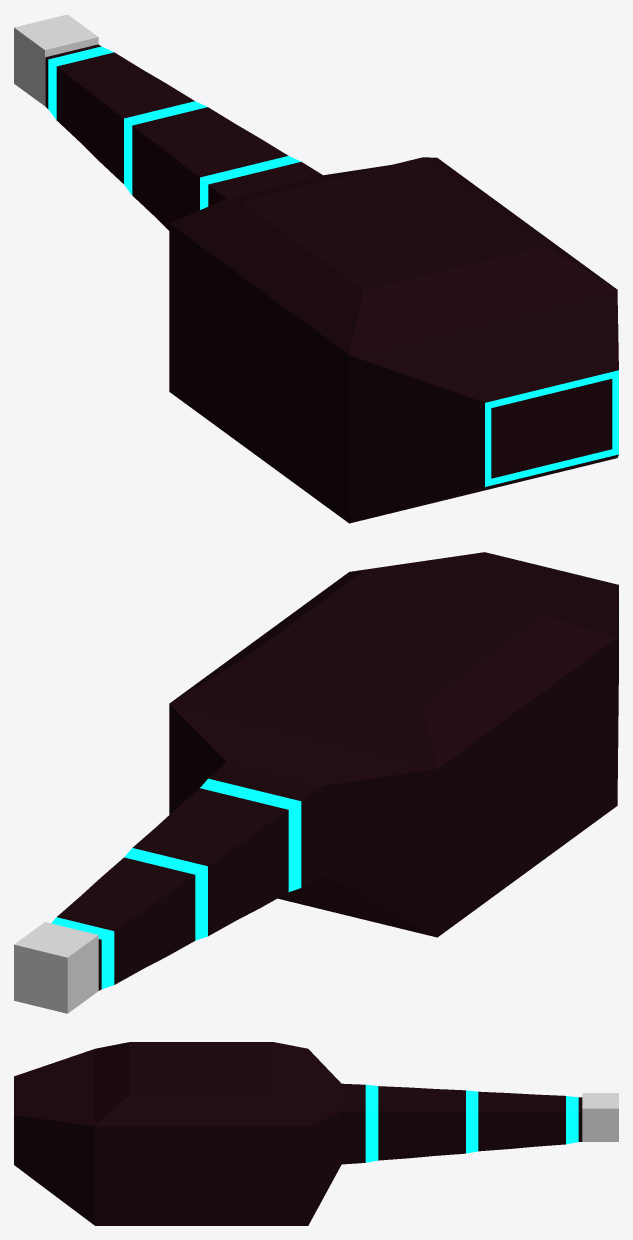
The model's file is Prototype_Gun#2.fbx.
3 renders of one model, top to bottom at view 1: azimuth 30°, elevation 25°; view 2: azimuth 150°, elevation 25°; view 3: azimuth 270°, elevation 25°, orthographic. The views are drawn at different scales.
Visible parts, largest first — view 1: Gun, Muzzle Point; view 2: Gun, Muzzle Point; view 3: Gun, Muzzle Point.
Boxes of the visible parts, x1=… form: Gun: x1=45, y1=44, x2=618, y2=523; Muzzle Point: x1=14, y1=14, x2=98, y2=105; Gun: x1=51, y1=552, x2=618, y2=990; Muzzle Point: x1=14, y1=922, x2=98, y2=1013; Gun: x1=14, y1=1042, x2=582, y2=1225; Muzzle Point: x1=582, y1=1093, x2=618, y2=1141.
Size of the model in its own units: 10 by 7.16 by 33.
